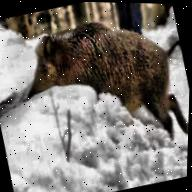boar: (12, 1, 192, 162)
